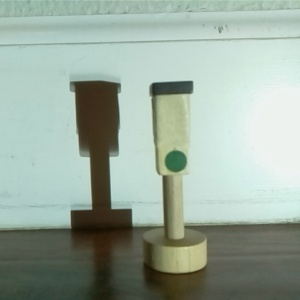traffic light green: (141, 79, 211, 273)
